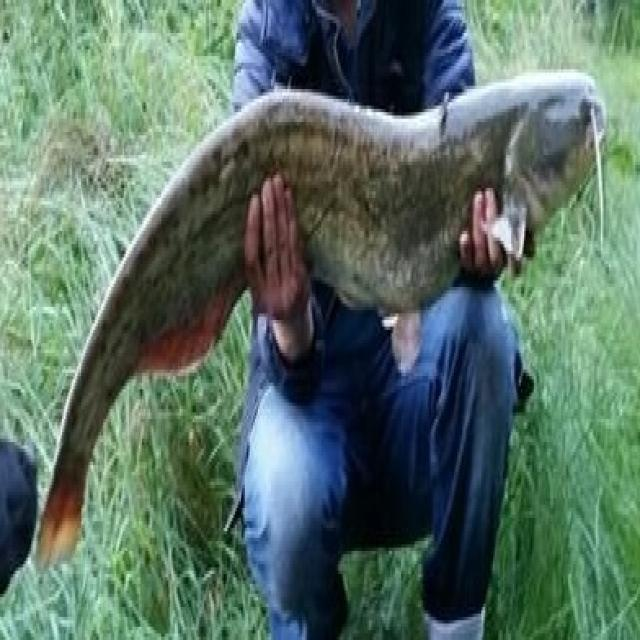Catfish: (18, 10, 610, 596)
